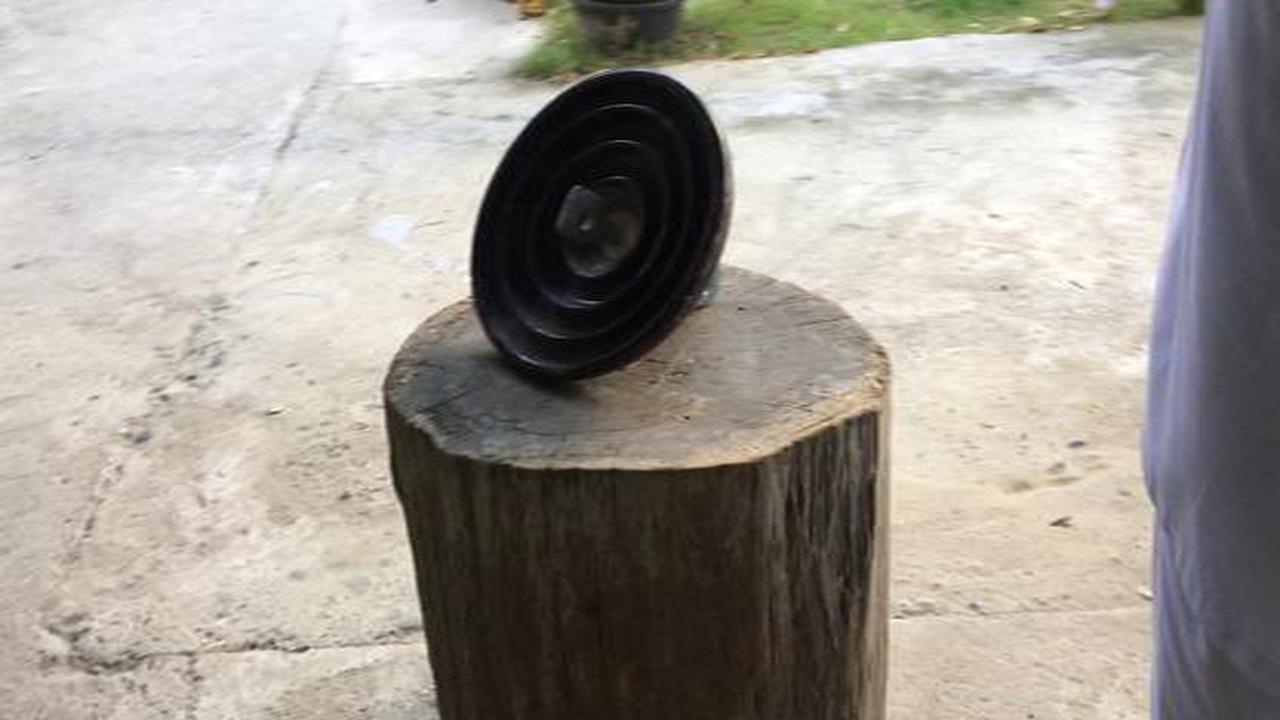insulator_disc: (466, 67, 737, 388)
